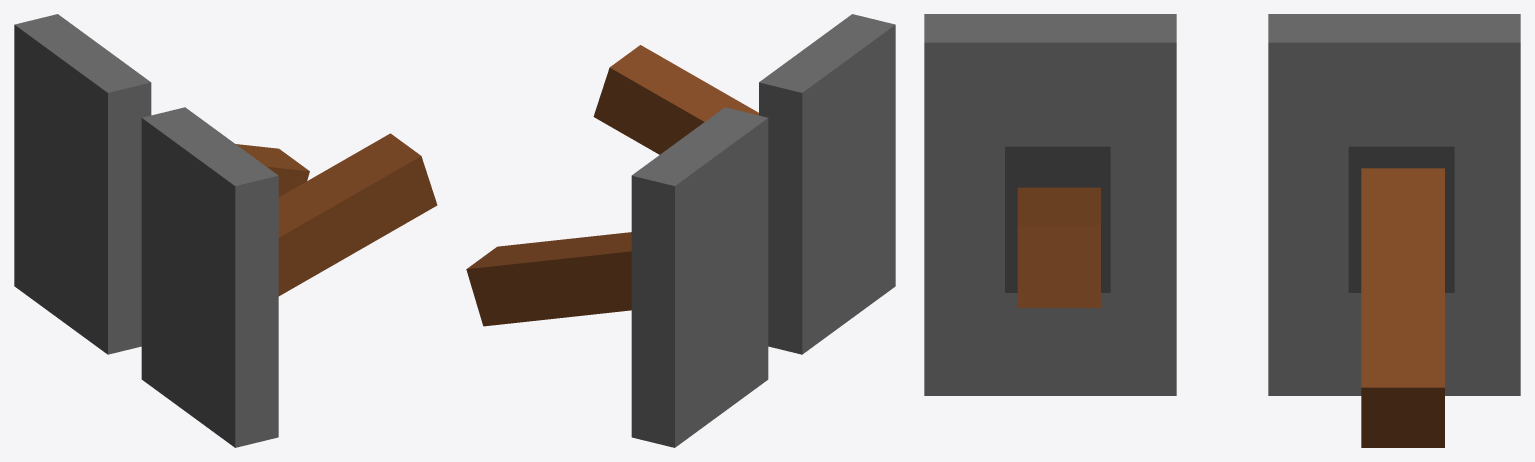
Rendered from rchag.fbx.
The picture shows the model from 3 angles, left to right: view 1: azimuth 30°, elevation 25°; view 2: azimuth 150°, elevation 25°; view 3: azimuth 270°, elevation 25°; orthographic projection. The views are drawn at different scales.
Visible parts, largest first — view 1: Cube, Cube.002, Cube.001, Cube.003; view 2: Cube.002, Cube, Cube.003, Cube.001; view 3: Cube, Cube.002, Cube.003, Cube.001.
Part boxes in pixels (box(x1,y1,x2,y2)): Cube: box(141, 107, 278, 447); Cube.002: box(14, 14, 151, 354); Cube.001: box(278, 133, 437, 296); Cube.003: box(236, 144, 309, 196); Cube.002: box(631, 107, 768, 447); Cube: box(759, 14, 895, 354); Cube.003: box(466, 232, 631, 326); Cube.001: box(593, 45, 758, 154); Cube: box(924, 14, 1176, 395); Cube.002: box(1268, 14, 1520, 395); Cube.003: box(1361, 168, 1444, 447); Cube.001: box(1017, 187, 1100, 307).
Size of the model in its own units: 189 by 200 by 306.
